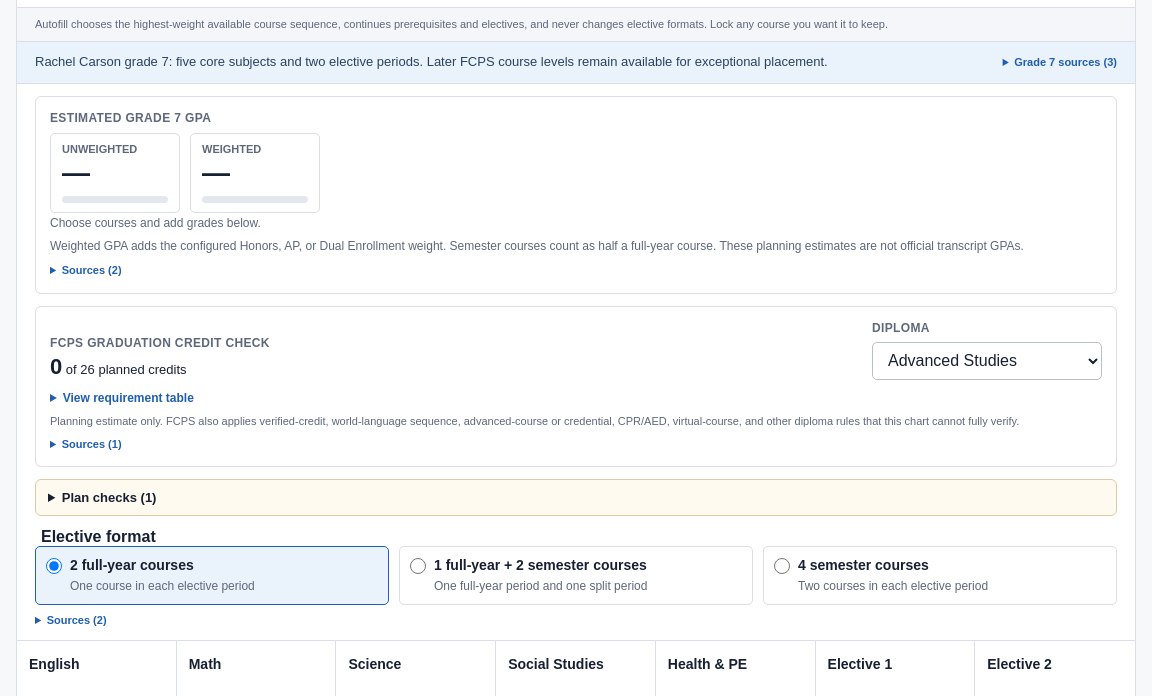
Test: device-local persistence, reset, and undo › switches diploma requirements and allows the change to be undone
The image size is (1152, 696).
(page scrolled)
Check: the text "0 of 26 planned credits" is shown, box [50, 354, 187, 379]
Select "Standard" in the dropdown labelled "Diploma": (987, 361) [872, 342, 1102, 380]
(page scrolled)
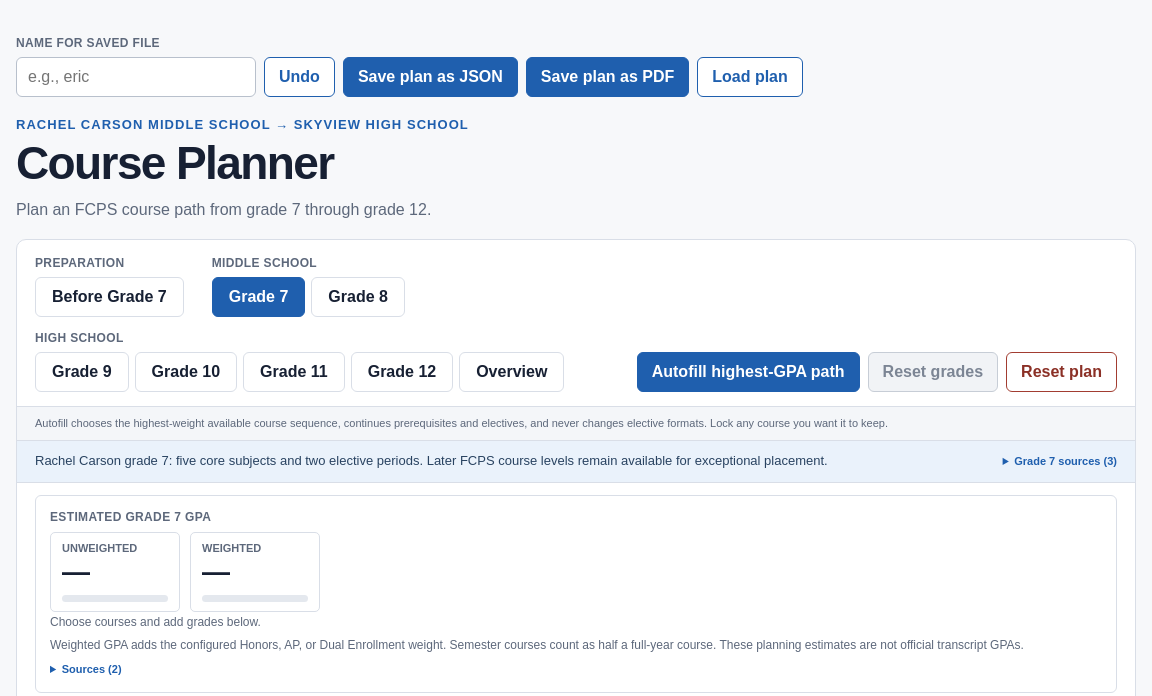
Click the button "Undo": click(299, 77) [264, 57, 335, 97]
(page scrolled)
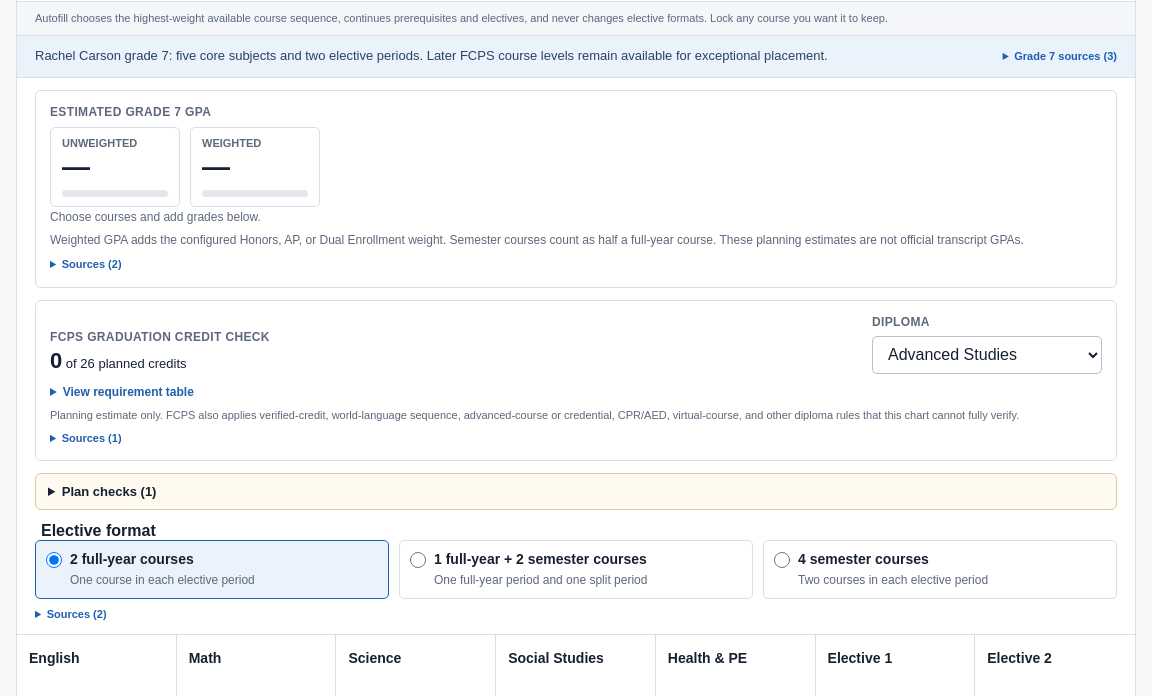
Check: the text "0 of 26 planned credits" is shown, box [50, 348, 187, 373]
